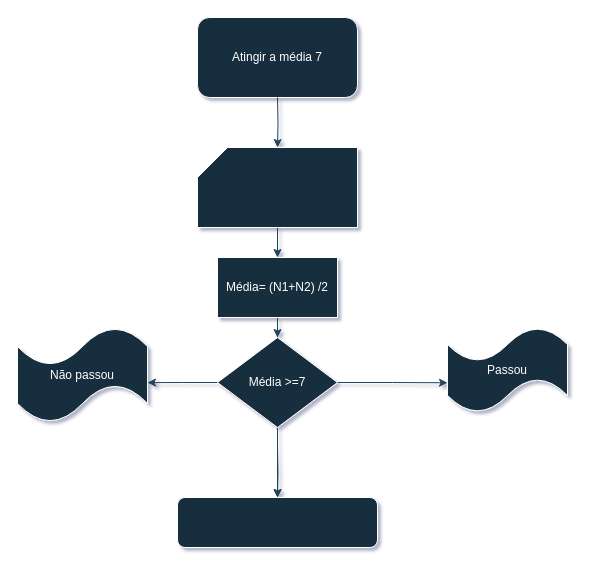
Some shapes in this 591 by 571 pixel diagram are drawn without their labels. Here are the shapes that lost their labels. From the top down, the centre of each, then its label:
At [277,187]: "N1,N2".
At [277,522]: "fim".
